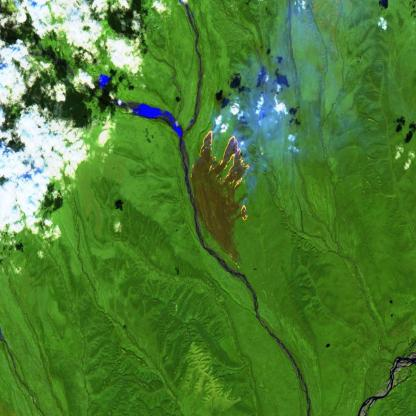fire: (188, 121, 250, 233)
